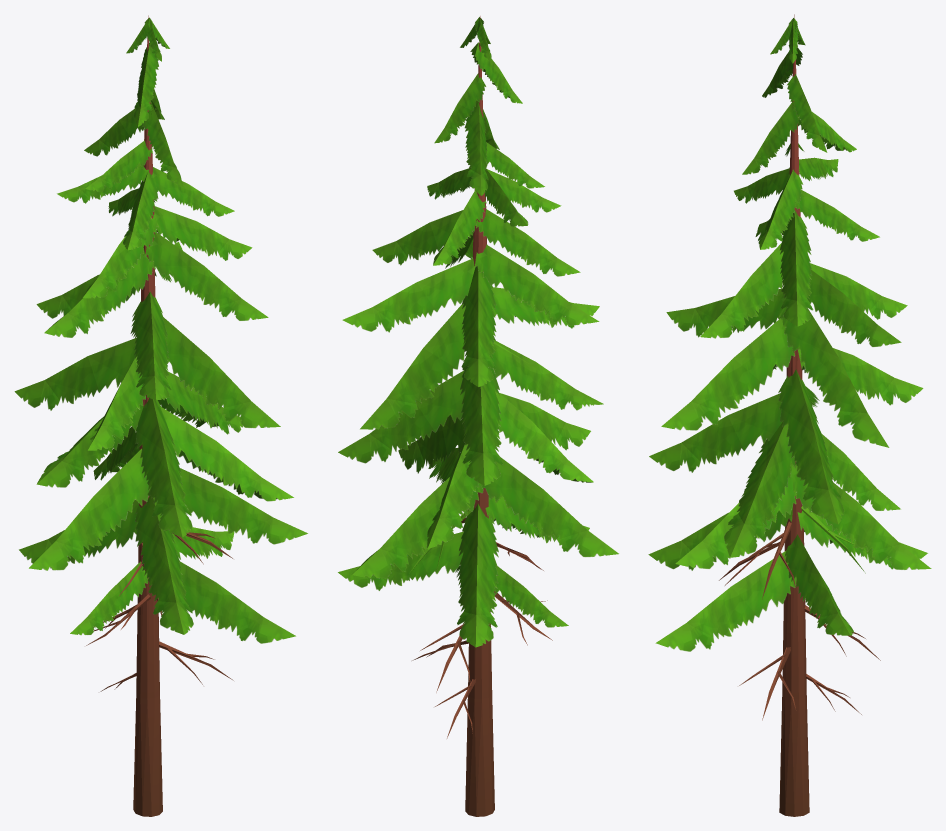
The model's file is tree1.glb.
3 renders of one model, left to right at view 1: azimuth 30°, elevation 25°; view 2: azimuth 150°, elevation 25°; view 3: azimuth 270°, elevation 25°, orthographic.
Parts seen in each view (by area): view 1: MAT_Leaf1, MAT_MAIN1; view 2: MAT_Leaf1, MAT_MAIN1; view 3: MAT_Leaf1, MAT_MAIN1.
Part boxes in pixels (<box>): MAT_Leaf1: <box>14,17,307,643</box>; MAT_MAIN1: <box>86,15,233,816</box>; MAT_Leaf1: <box>338,17,618,647</box>; MAT_MAIN1: <box>412,16,552,816</box>; MAT_Leaf1: <box>648,18,931,651</box>; MAT_MAIN1: <box>719,14,880,816</box>.
Bounding box in the file's own units: 8.01 × 24.38 × 7.86.
Materials: 2 (2 with a texture image).
